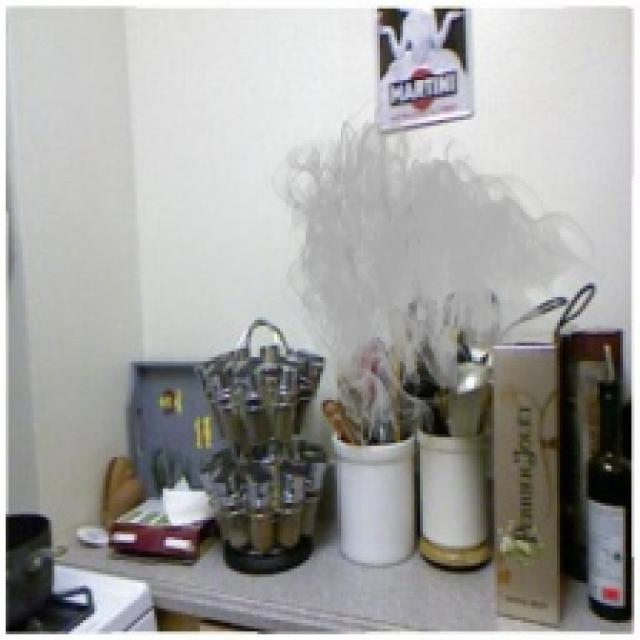smoke: (263, 86, 606, 477)
